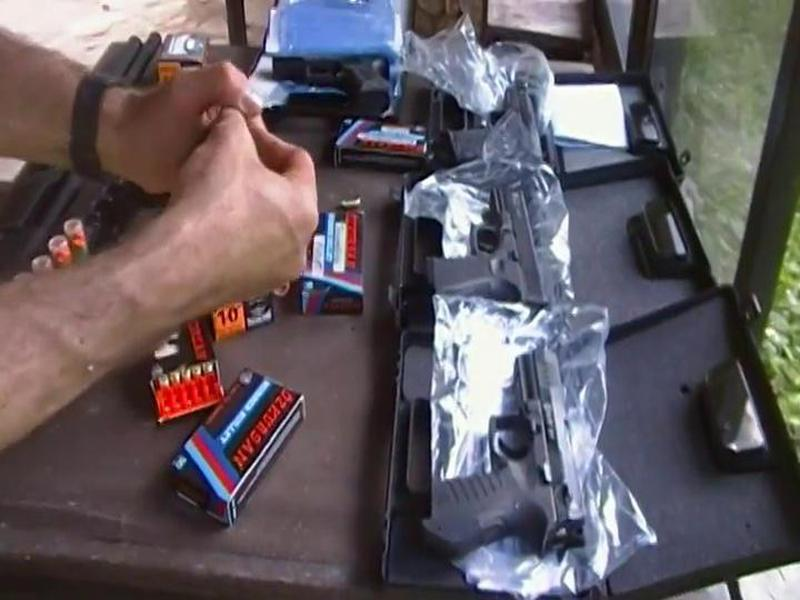Pistola: (404, 341, 601, 569), (403, 178, 567, 316)
